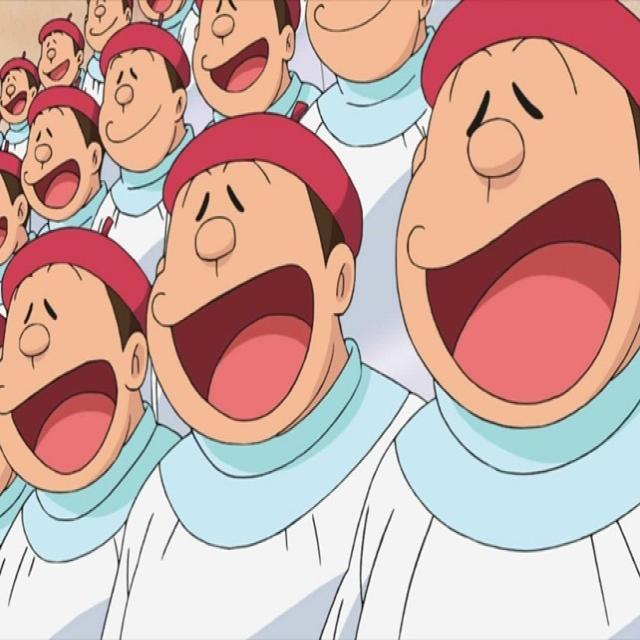jaian: (383, 39, 639, 421), (132, 100, 374, 444)
